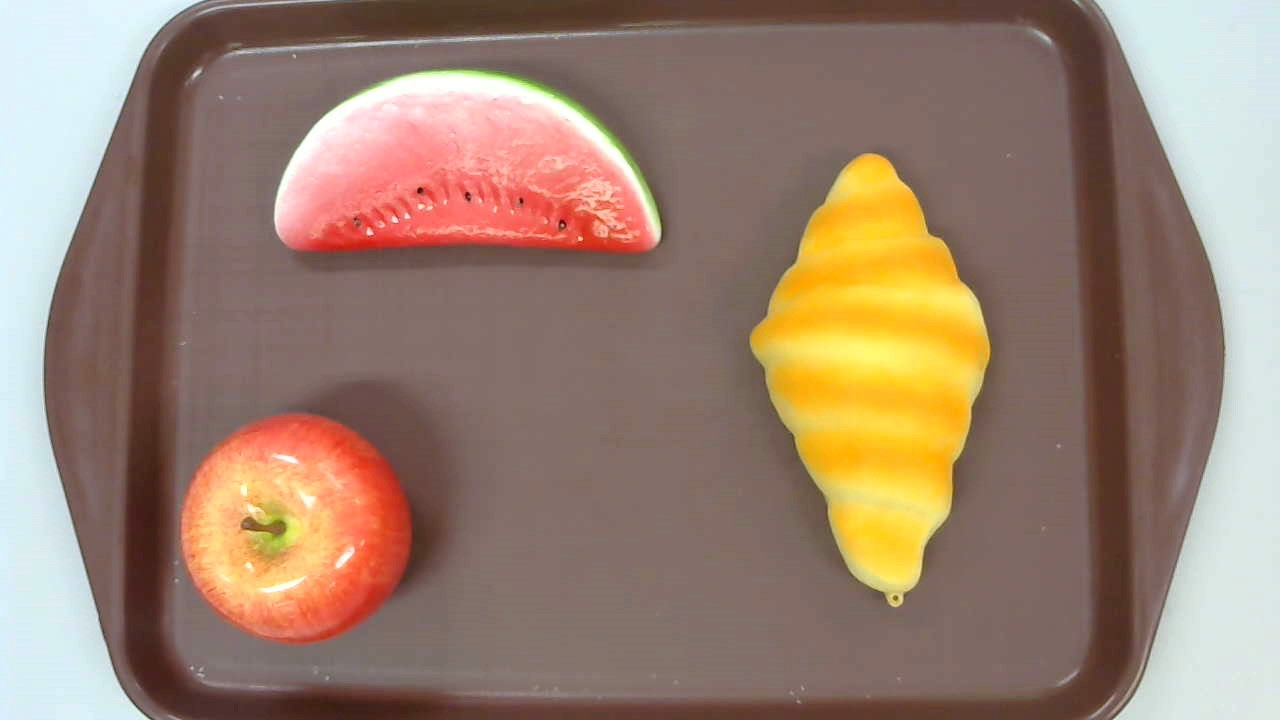croissant: (747, 153, 991, 608)
red apple: (179, 411, 413, 645)
water melon: (274, 66, 661, 253)
